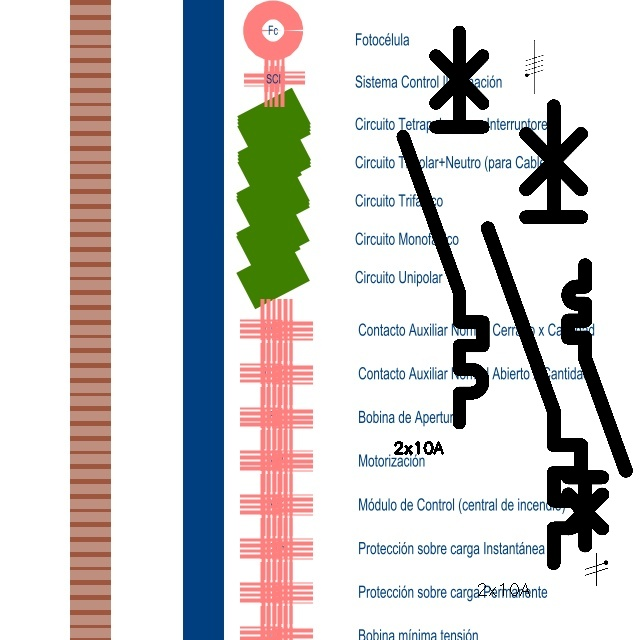interruptor_termomagnetico: (476, 94, 593, 574), (393, 22, 493, 433), (561, 258, 633, 552)
